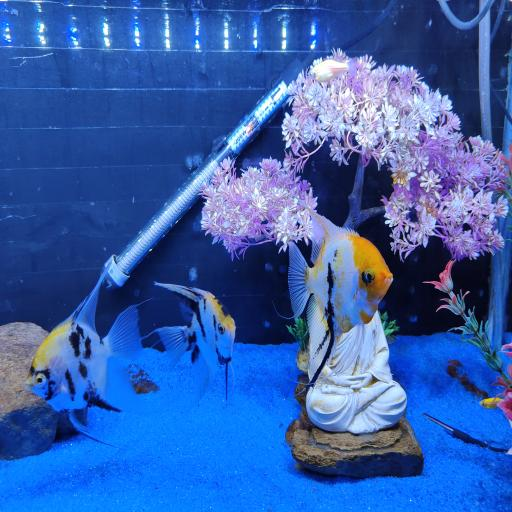Fish: (25, 271, 145, 436), (289, 212, 392, 385), (154, 282, 235, 401), (311, 59, 356, 82), (480, 398, 503, 409)
